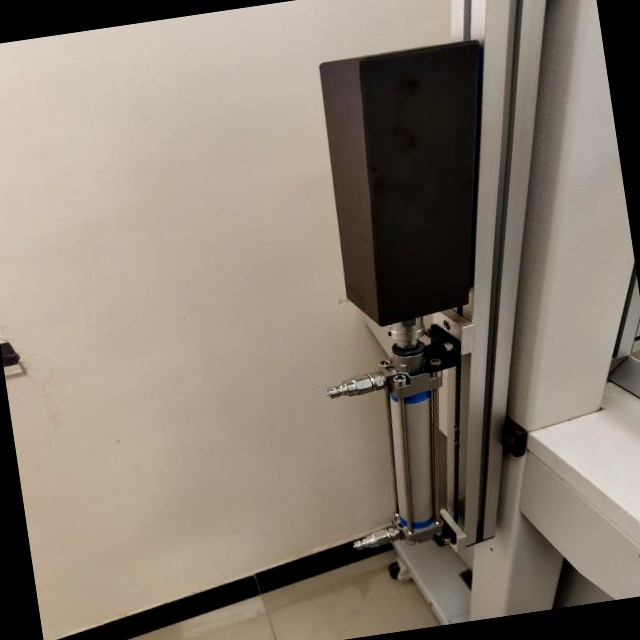load: (272, 31, 569, 565)
